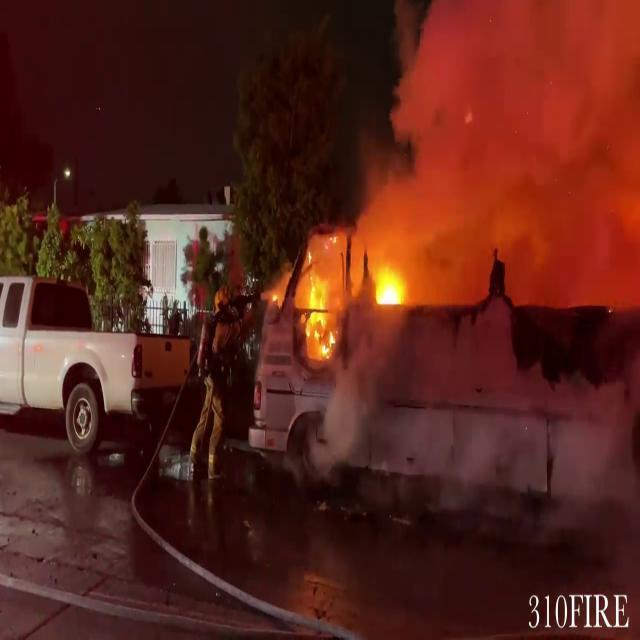Smoke: (342, 0, 640, 290)
